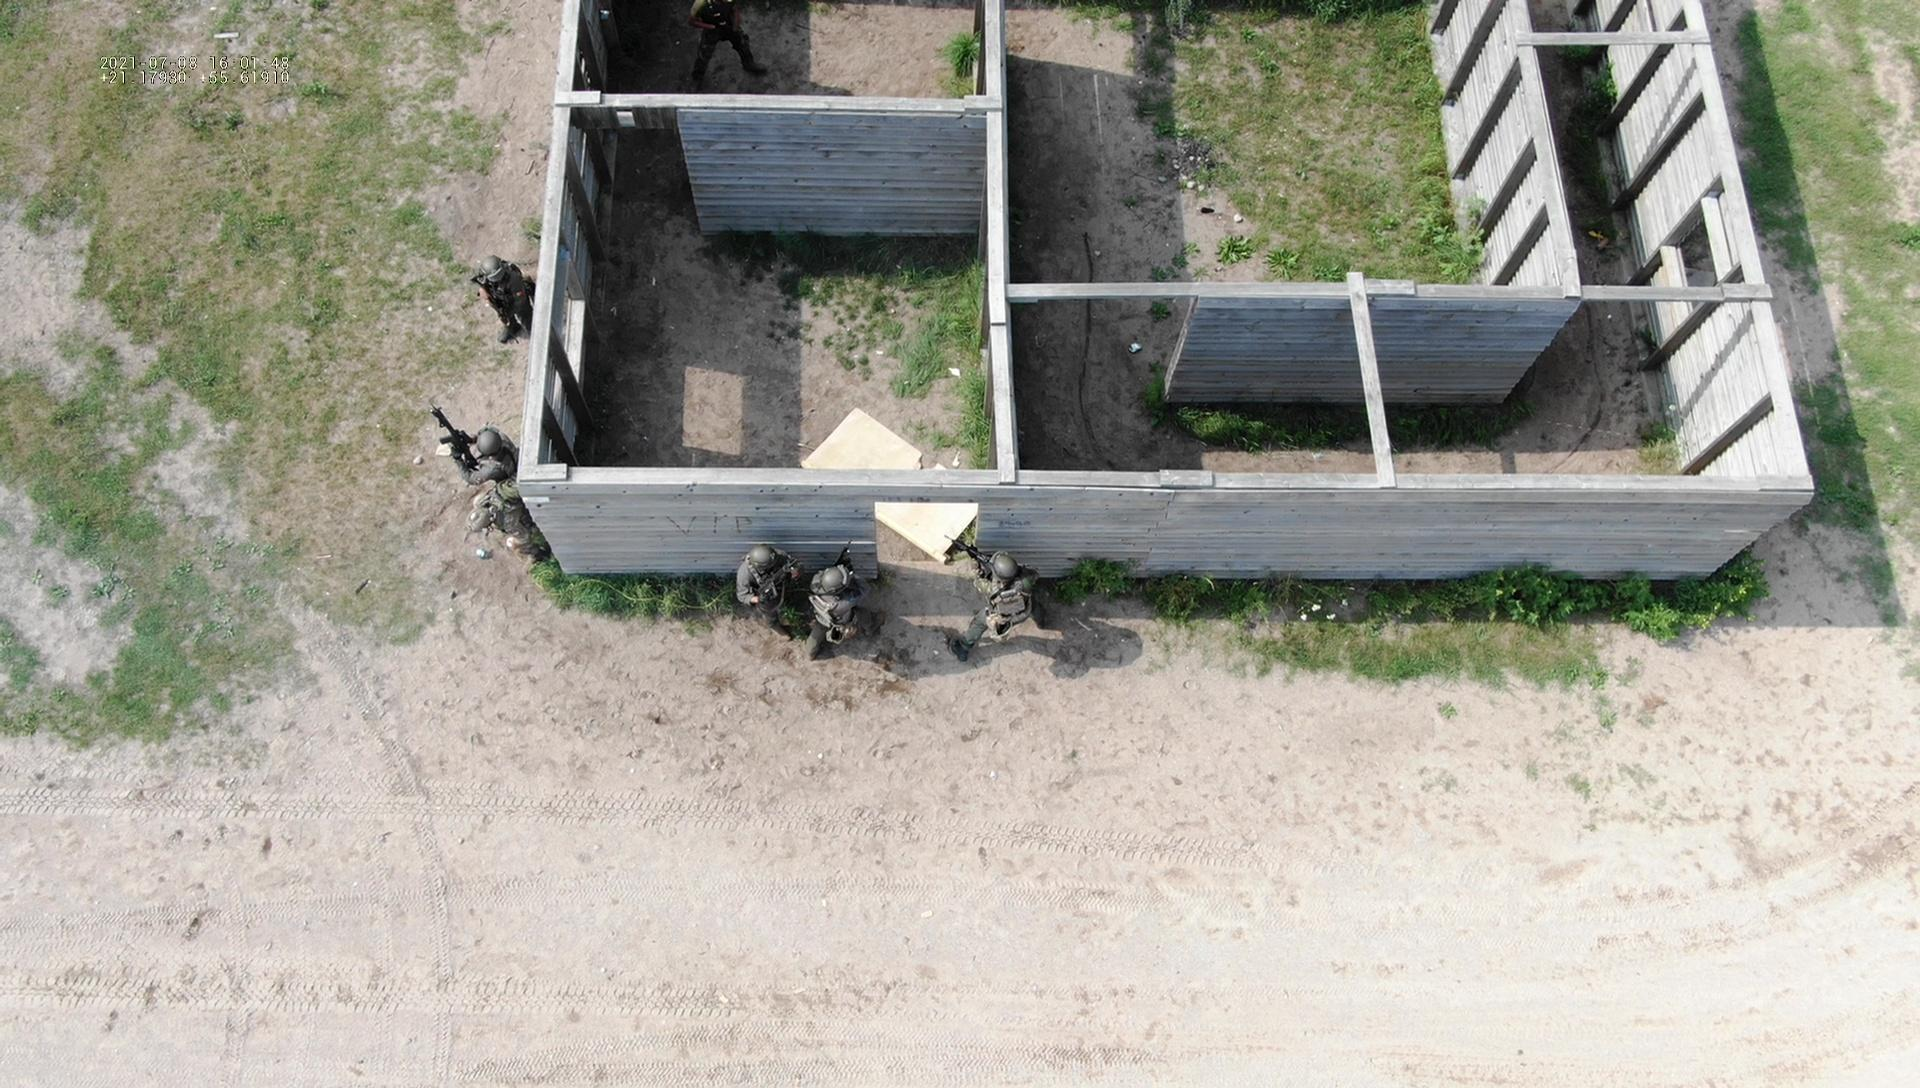Soldier: (968, 512, 1071, 673), (810, 516, 899, 654), (741, 520, 837, 645), (481, 444, 572, 575), (467, 227, 542, 361), (464, 425, 504, 481)
